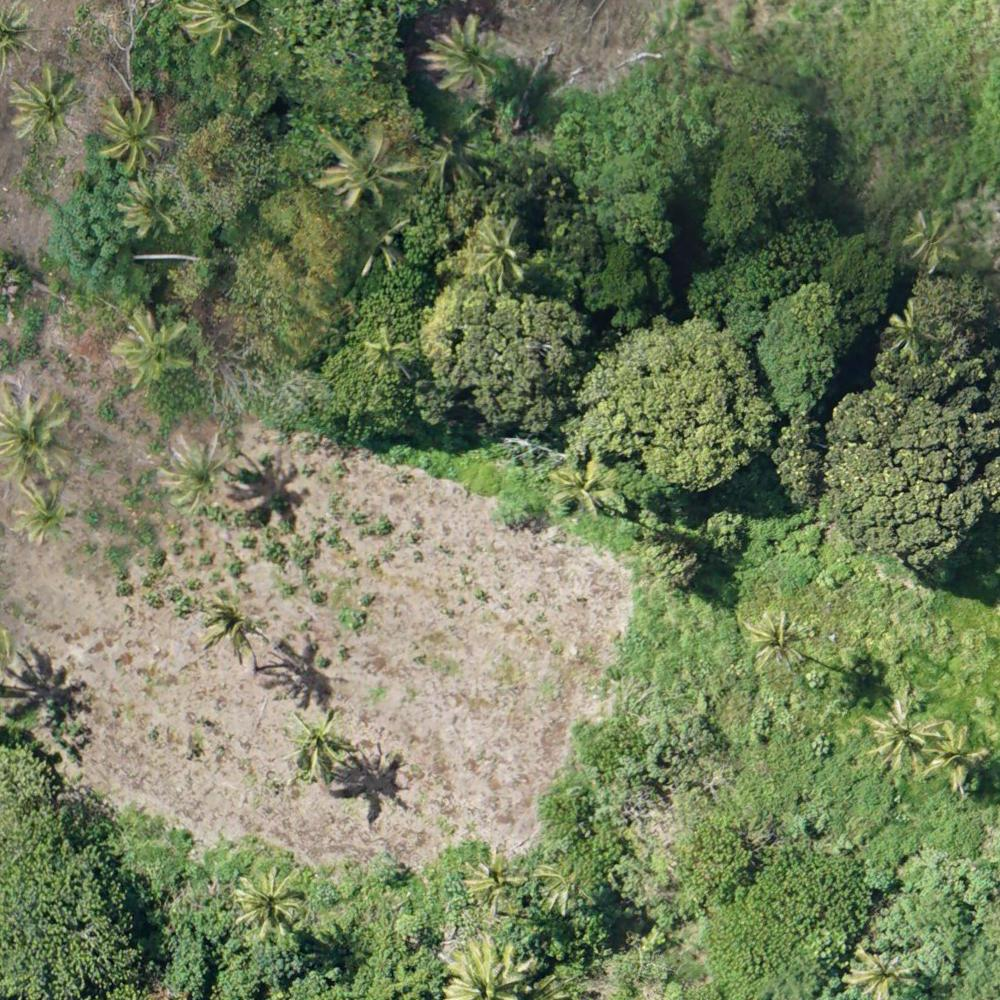Palm: (1, 388, 78, 480), (422, 18, 508, 98), (7, 66, 84, 151), (158, 432, 236, 508), (116, 306, 189, 384), (324, 125, 401, 198), (866, 698, 939, 772), (459, 212, 534, 284), (232, 865, 308, 936), (97, 97, 167, 174), (287, 709, 354, 777), (899, 210, 965, 277), (9, 483, 79, 543), (929, 717, 986, 790), (549, 456, 618, 515), (748, 609, 809, 675), (195, 596, 257, 658), (845, 942, 915, 996), (463, 851, 520, 908), (122, 178, 176, 238), (889, 302, 937, 360)
